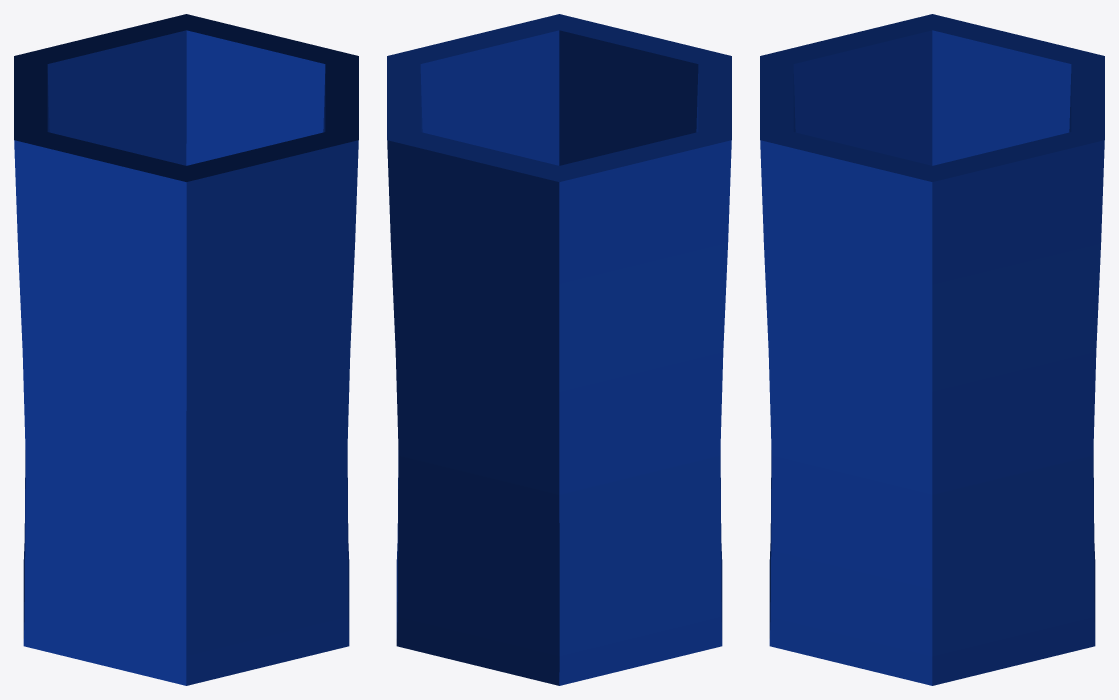
File: Hexagonal Cup 3.fbx
3 views of the same model, side by side, from view 1: azimuth 30°, elevation 25°; view 2: azimuth 150°, elevation 25°; view 3: azimuth 270°, elevation 25° (orthographic).
Parts seen in each view (by area): view 1: Node 0; view 2: Node 0; view 3: Node 0.
Part boxes in pixels (x1,y1,x2,y2): Node 0: (14,14,358,685); Node 0: (387,14,731,685); Node 0: (760,14,1104,685).
Bounding box in the file's own units: 0.0901 × 0.1466 × 0.104.
